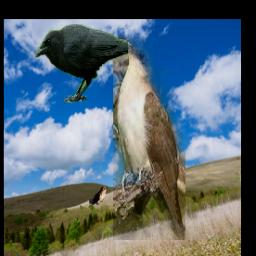Crow: (35, 25, 129, 104)
Cuckoo: (113, 37, 186, 241), (89, 187, 108, 206)
